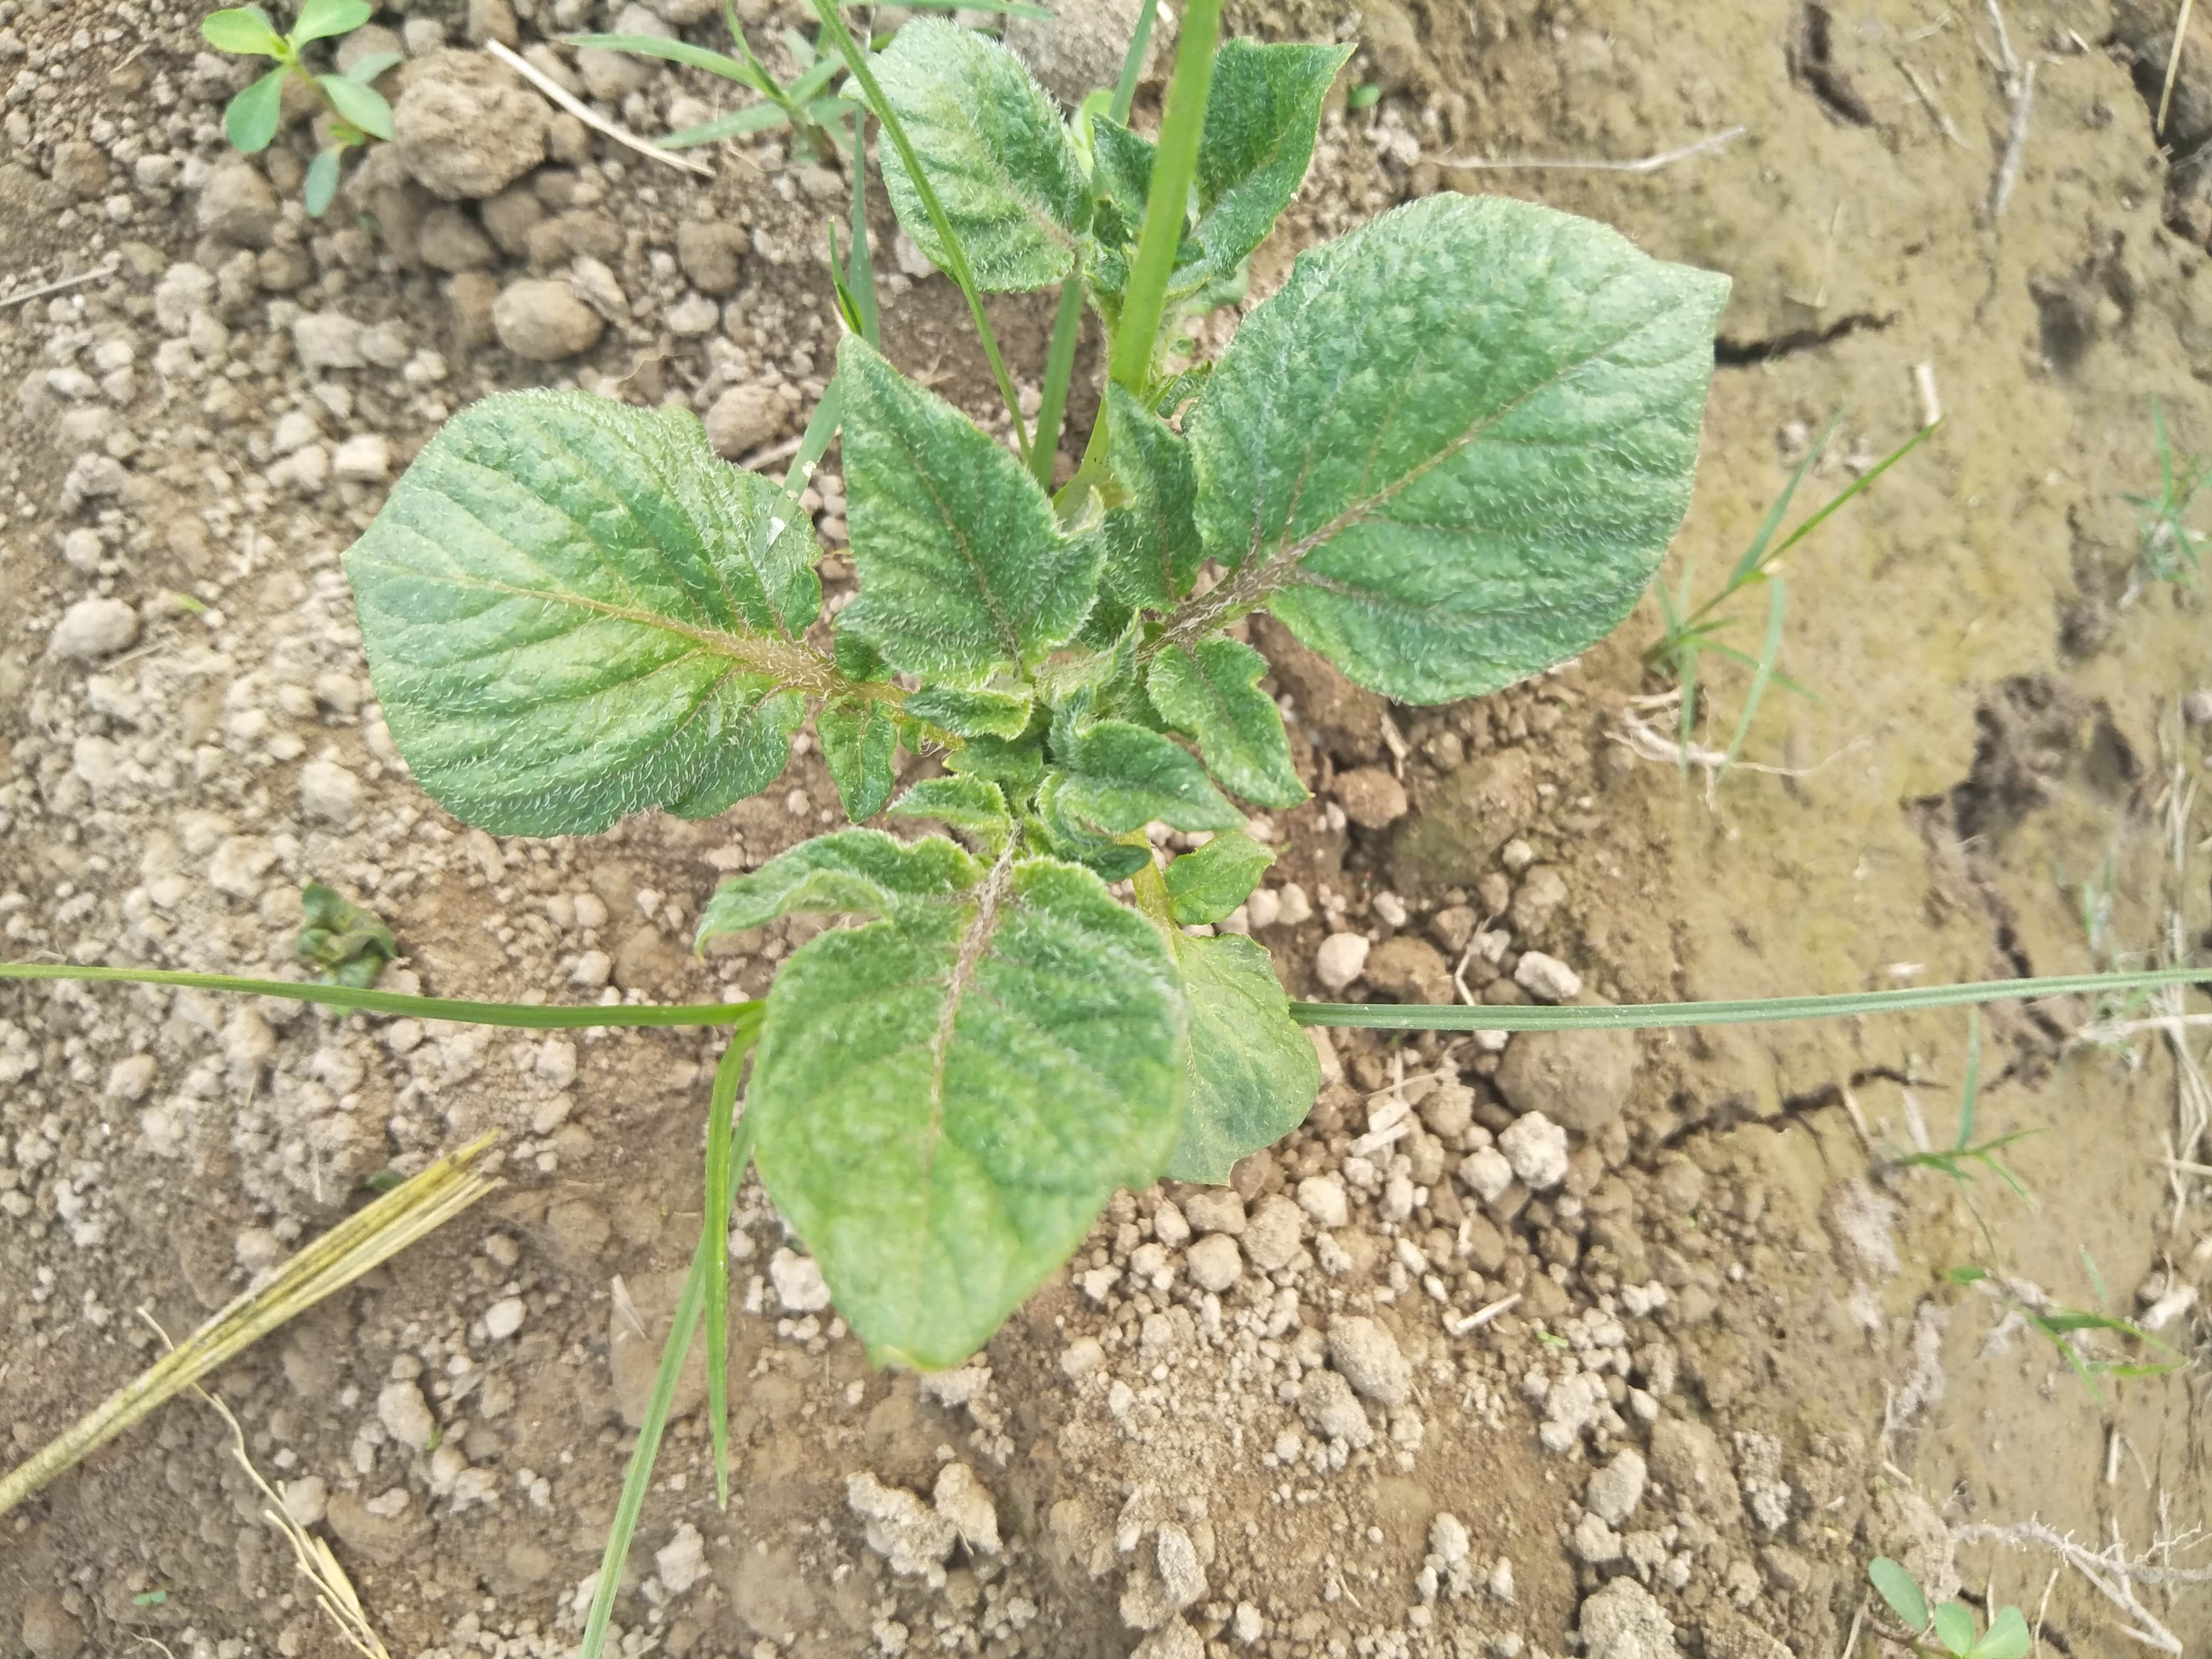daun: (723, 840, 1165, 1368), (1184, 235, 1710, 678), (333, 399, 801, 823), (815, 331, 1087, 671), (862, 19, 1076, 284), (1165, 936, 1308, 1173), (1188, 40, 1327, 258), (1146, 648, 1308, 789), (1113, 390, 1212, 608), (1059, 727, 1235, 840), (897, 770, 1021, 833), (831, 704, 892, 819), (921, 681, 1024, 737)
